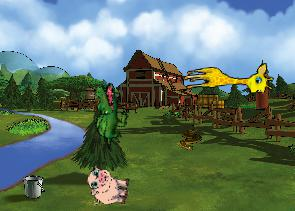crocodile: (79, 80, 138, 149)
giraffe: (182, 62, 274, 100)
pig: (85, 165, 131, 208)
